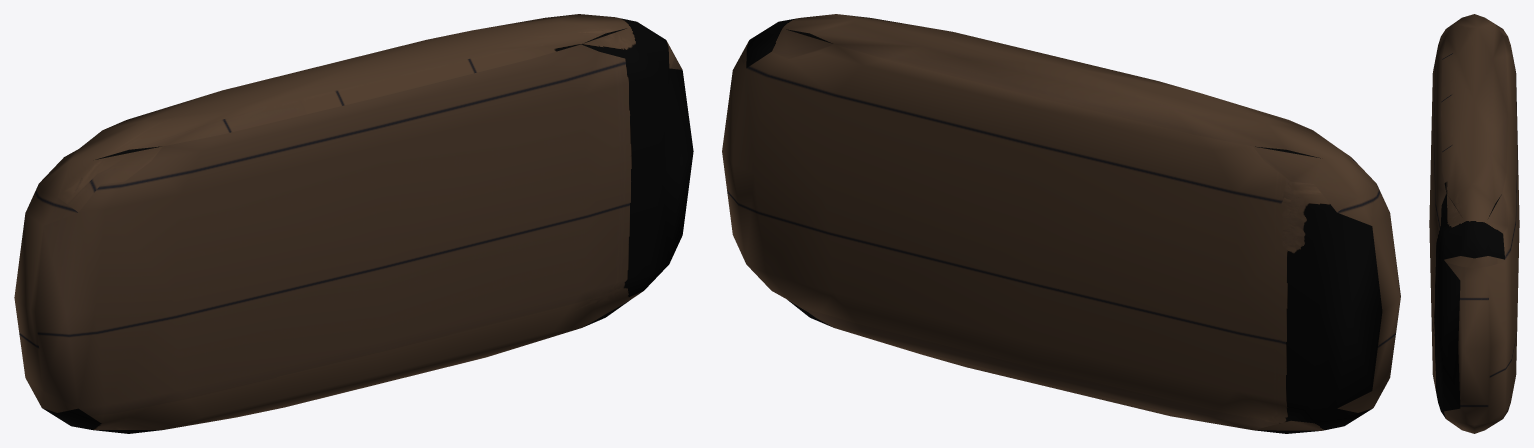
File: Remache_PiernaIzq_Cuero.fbx
3 views of the same model, side by side, from view 1: azimuth 30°, elevation 25°; view 2: azimuth 150°, elevation 25°; view 3: azimuth 270°, elevation 25° (orthographic). The views are drawn at different scales.
Visible parts, largest first — view 1: Remache_PiernaIzq_Cuero; view 2: Remache_PiernaIzq_Cuero; view 3: Remache_PiernaIzq_Cuero.
Part boxes in pixels (x1=…): Remache_PiernaIzq_Cuero: x1=14, y1=14, x2=693, y2=433; Remache_PiernaIzq_Cuero: x1=722, y1=14, x2=1400, y2=433; Remache_PiernaIzq_Cuero: x1=1429, y1=14, x2=1519, y2=433.
Bounding box in the file's own units: 1.41 × 0.6429 × 0.2143.
